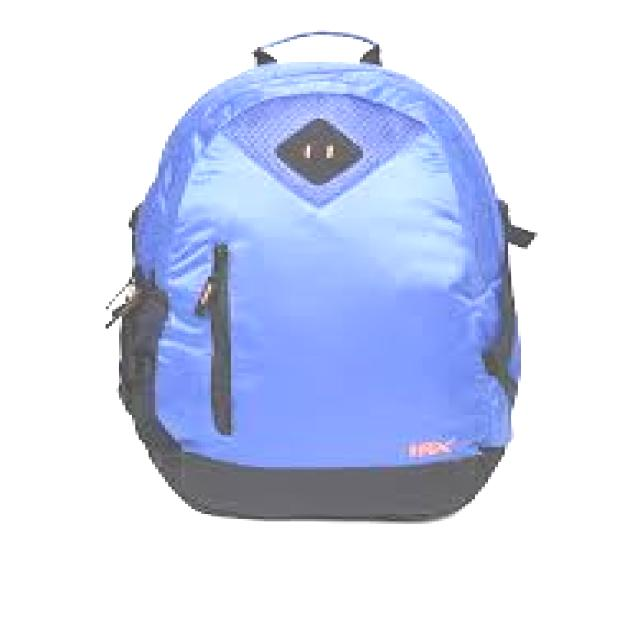backpack: (104, 29, 536, 523)
